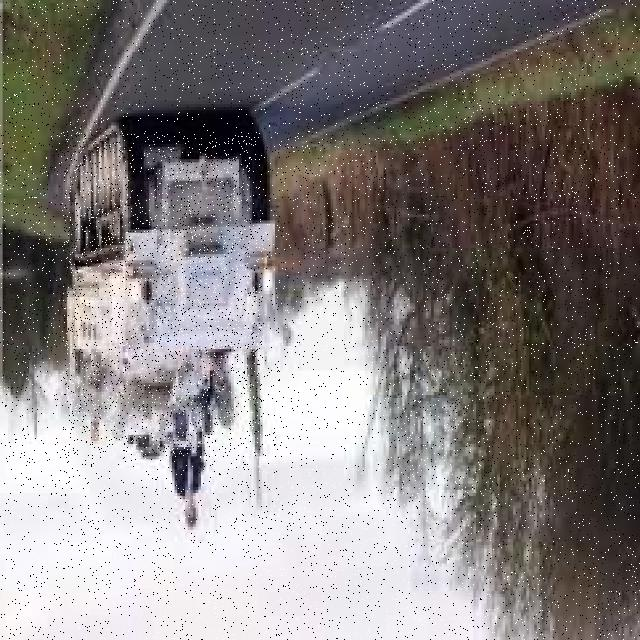MIL_MBT: (64, 132, 262, 456)
